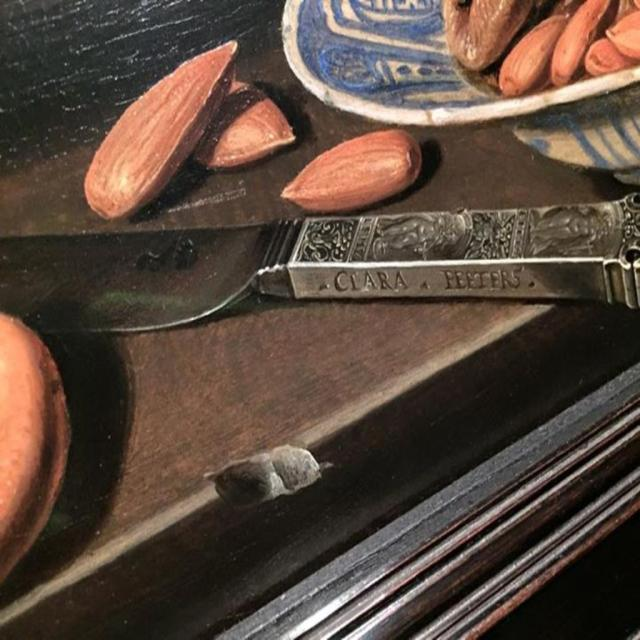Knife: (0, 197, 640, 336)
